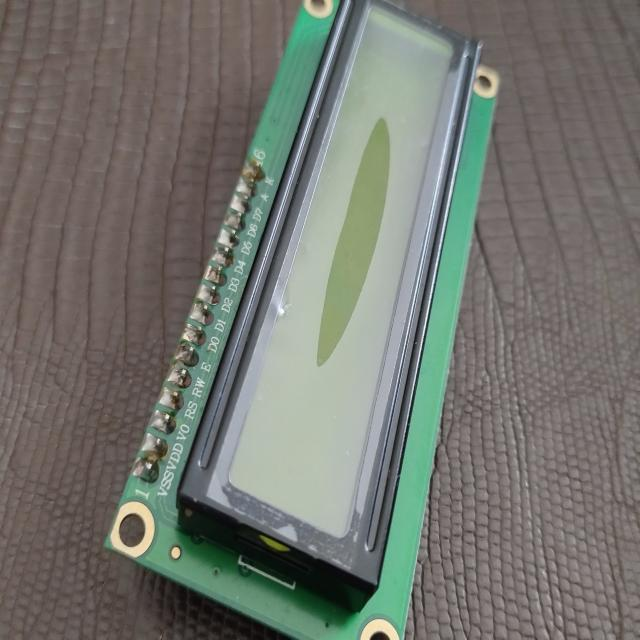lcd: (104, 1, 498, 638)
